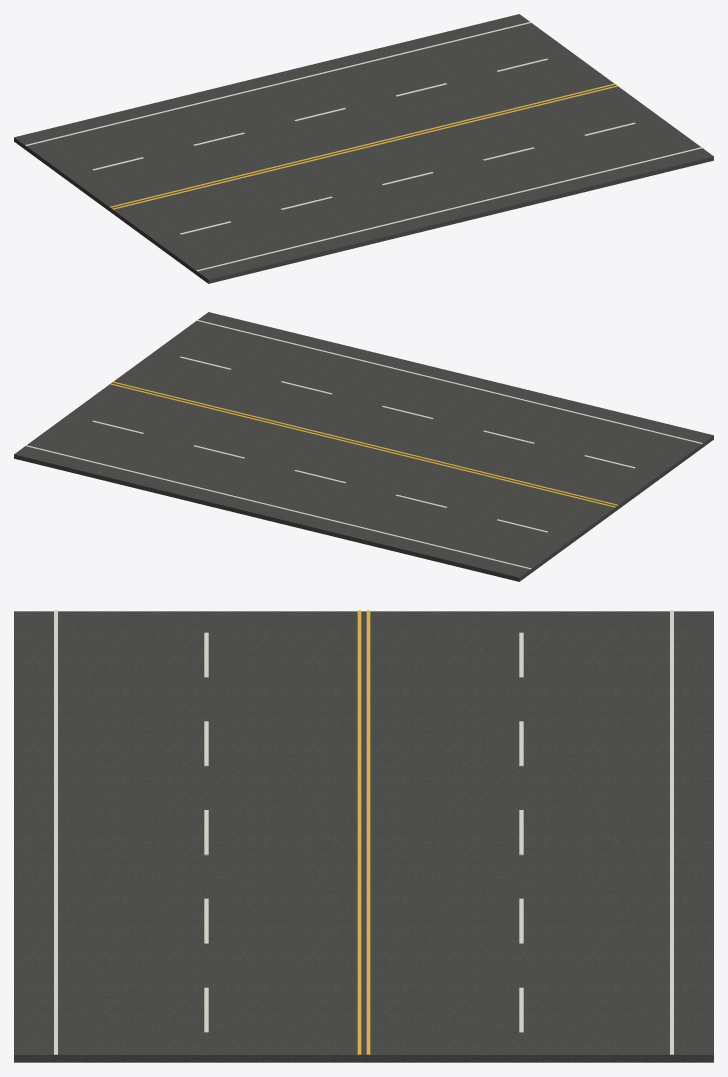
Rendered from boulevard_30m.glb.
3 renders of one model, top to bottom at view 1: azimuth 30°, elevation 25°; view 2: azimuth 150°, elevation 25°; view 3: azimuth 270°, elevation 25°, orthographic. The views are drawn at different scales.
Parts seen in each view (by area): view 1: boulevard_30m; view 2: boulevard_30m; view 3: boulevard_30m.
Part boxes in pixels (left/top/right/bottom): boulevard_30m: left=14, top=14, right=713, bottom=283; boulevard_30m: left=14, top=312, right=713, bottom=581; boulevard_30m: left=14, top=610, right=713, bottom=1062.
Bounding box in the file's own units: 30 × 0.2665 × 20.
